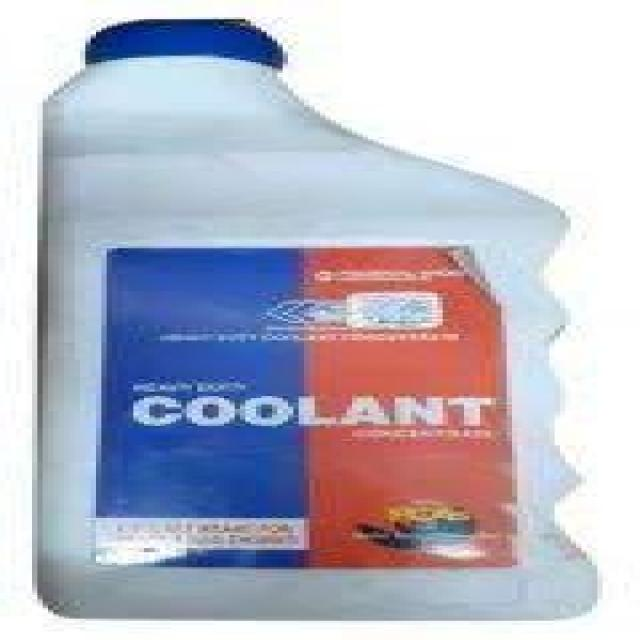coolant: (38, 16, 619, 631)
